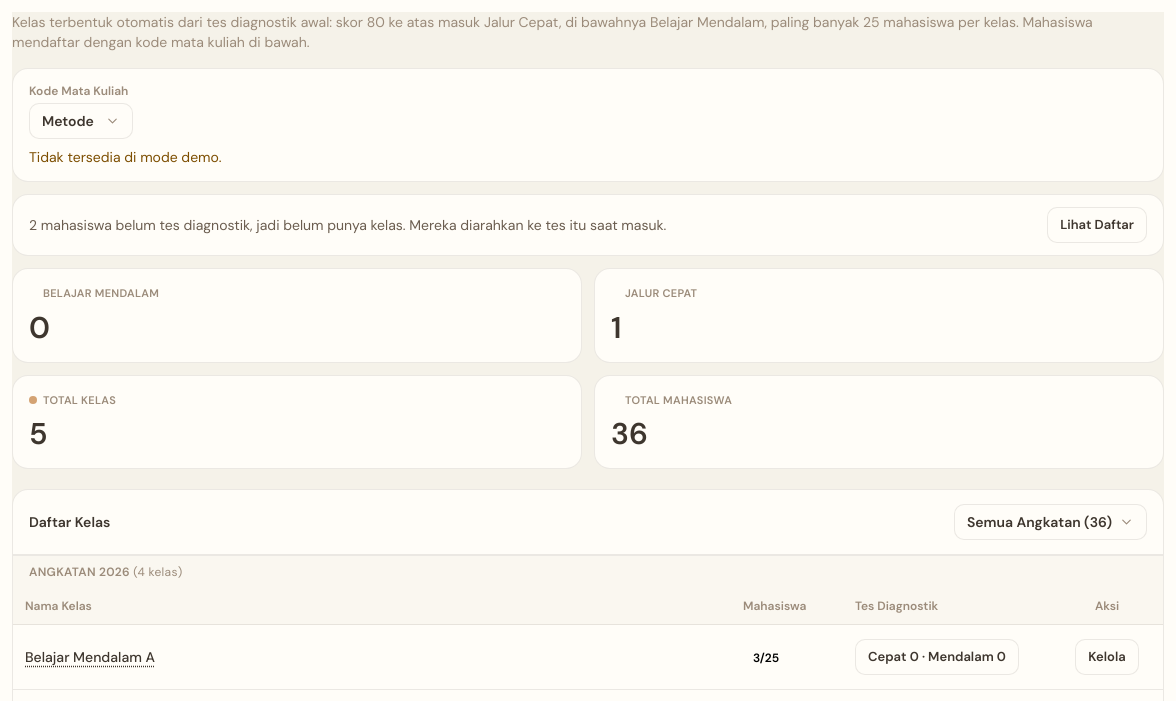
Scenario: KelasPanel (antrean #228) › daftar belum tes juga punya Konfirmasi Akun dan Atur Ulang Kata Sandi
Click the button "Lihat Daftar" at (1097, 225), box [1047, 207, 1147, 243]
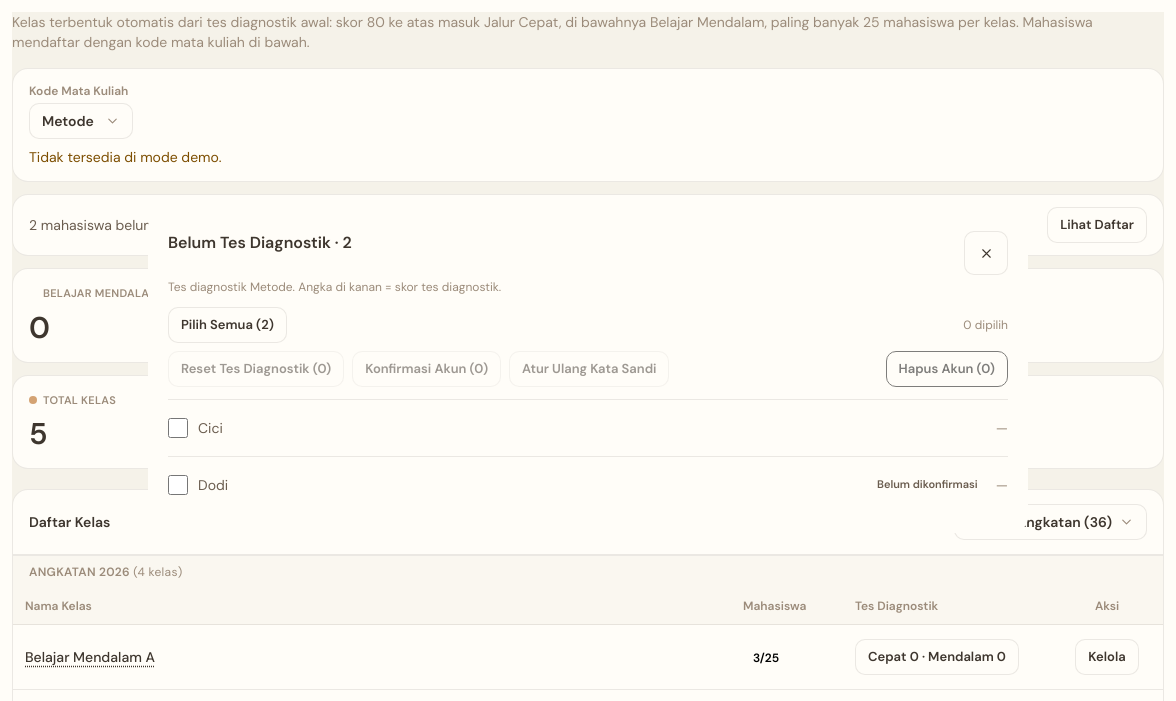
Now the text "Belum dikonfirmasi" is shown, box [877, 477, 978, 491]
Click the checkbox named "Pilih Dodi" at (178, 485), box [168, 475, 188, 495]
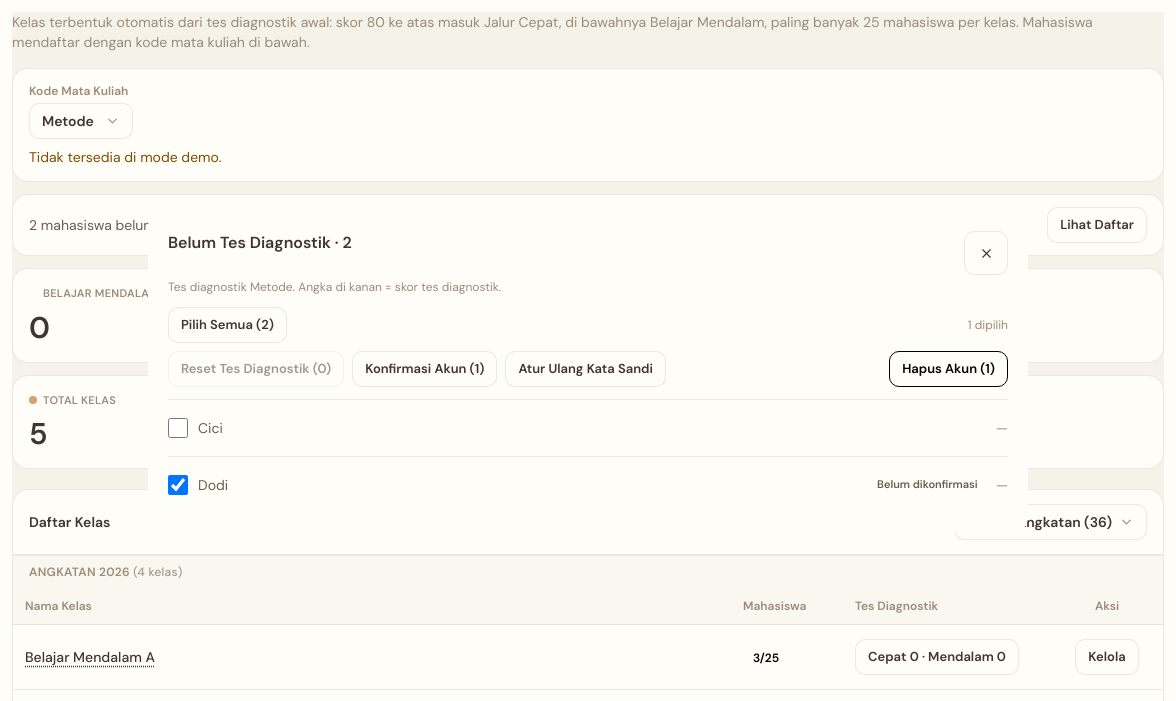
Now the button "Konfirmasi Akun (1)" is enabled, box [352, 351, 497, 387]
Now the button "Atur Ulang Kata Sandi" is enabled, box [505, 351, 666, 387]
